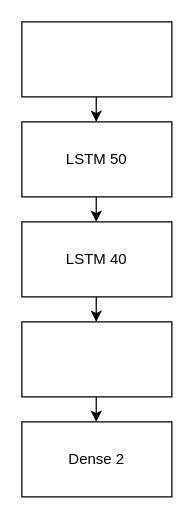
Some shapes in this 194 by 519 pixel diagram are drawn without their labels. Here are the shapes that lost their labels. From the top down, the box of each, then its label:
(21, 21, 172, 97): Voicebox Features
(21, 321, 172, 397): LSTM 30
